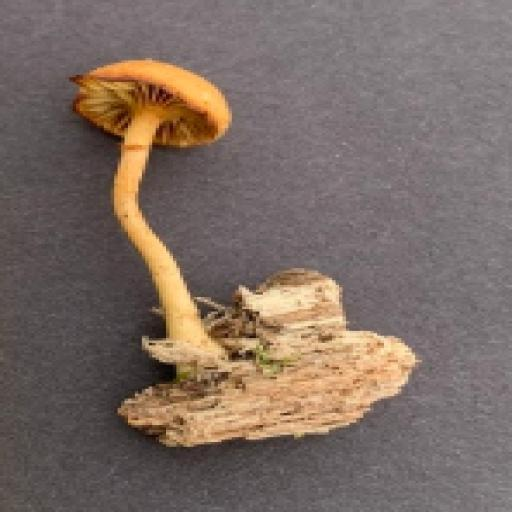mushroom: (57, 46, 273, 281)
